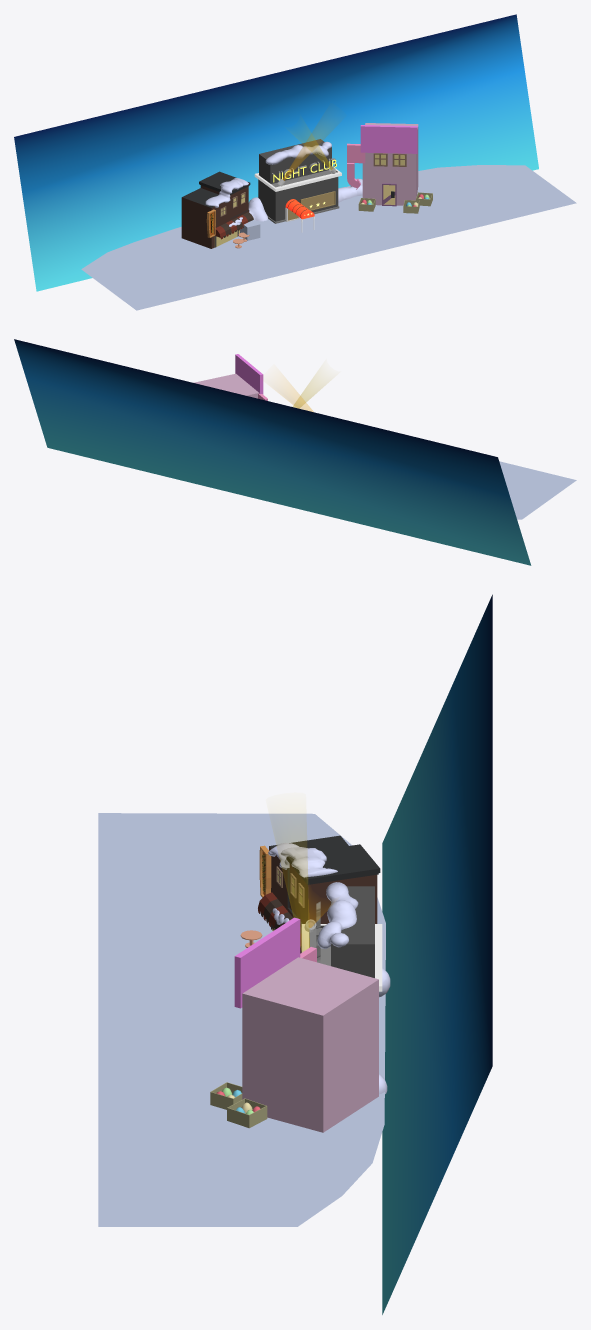
The model's file is town.glb.
3 renders of one model, top to bottom at view 1: azimuth 30°, elevation 25°; view 2: azimuth 150°, elevation 25°; view 3: azimuth 270°, elevation 25°, orthographic. The views are drawn at different scales.
Parts seen in each view (by area): view 1: Plane, ground, ground-clickable, coffee-shop, club, gift-shop, gift-shop-sign, second-floor, snow-3, snow, light-bucket, snow-2 (+4 smaller); view 2: Plane, ground, gift-shop, gift-shop-sign, light-bucket, light-bucket-2; view 3: ground-clickable, Plane, ground, gift-shop, coffee-shop, gift-shop-sign, second-floor, light-bucket-2, snow-3, snow-2, club, box-a.002.
Part boxes in pixels (<box>): Plane: <box>14,14,538,291</box>; ground: <box>81,165,576,310</box>; ground-clickable: <box>102,171,575,307</box>; coffee-shop: <box>181,171,250,248</box>; club: <box>254,167,341,223</box>; gift-shop: <box>362,123,418,205</box>; gift-shop-sign: <box>360,125,417,153</box>; second-floor: <box>259,139,331,183</box>; snow-3: <box>265,141,331,164</box>; snow: <box>248,178,362,221</box>; light-bucket: <box>277,124,329,186</box>; snow-2: <box>205,178,248,207</box>; Plane: <box>14,339,531,565</box>; ground: <box>499,461,576,519</box>; gift-shop: <box>193,373,259,398</box>; gift-shop-sign: <box>235,354,263,394</box>; light-bucket: <box>279,383,313,411</box>; light-bucket-2: <box>293,376,324,407</box>; ground-clickable: <box>98,822,361,1226</box>; Plane: <box>382,594,492,1314</box>; ground: <box>98,813,385,1226</box>; gift-shop: <box>242,957,378,1132</box>; coffee-shop: <box>269,835,380,953</box>; gift-shop-sign: <box>234,917,300,1008</box>; second-floor: <box>331,886,374,977</box>; light-bucket-2: <box>277,839,309,951</box>; snow-3: <box>317,882,358,948</box>; snow-2: <box>268,842,337,877</box>; club: <box>301,924,382,991</box>; box-a.002: <box>227,1098,267,1128</box>.
Bounding box in the file's own units: 79.06 × 21.64 × 27.54.
37 materials, 1 textured.
